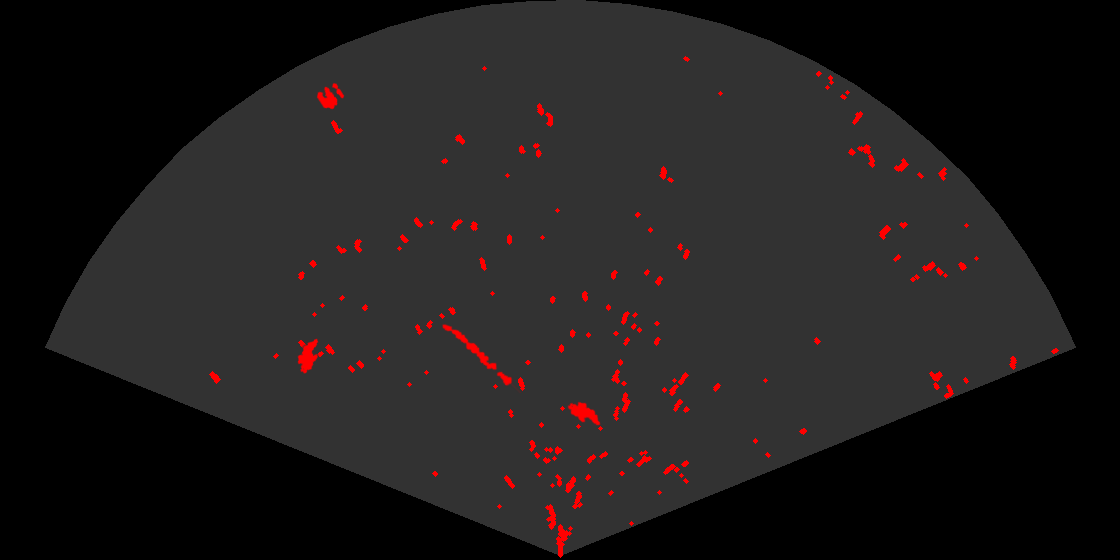AUV: (566, 400, 602, 427), (296, 337, 320, 375)
ball: (315, 81, 346, 111)
chain: (441, 322, 523, 393)
